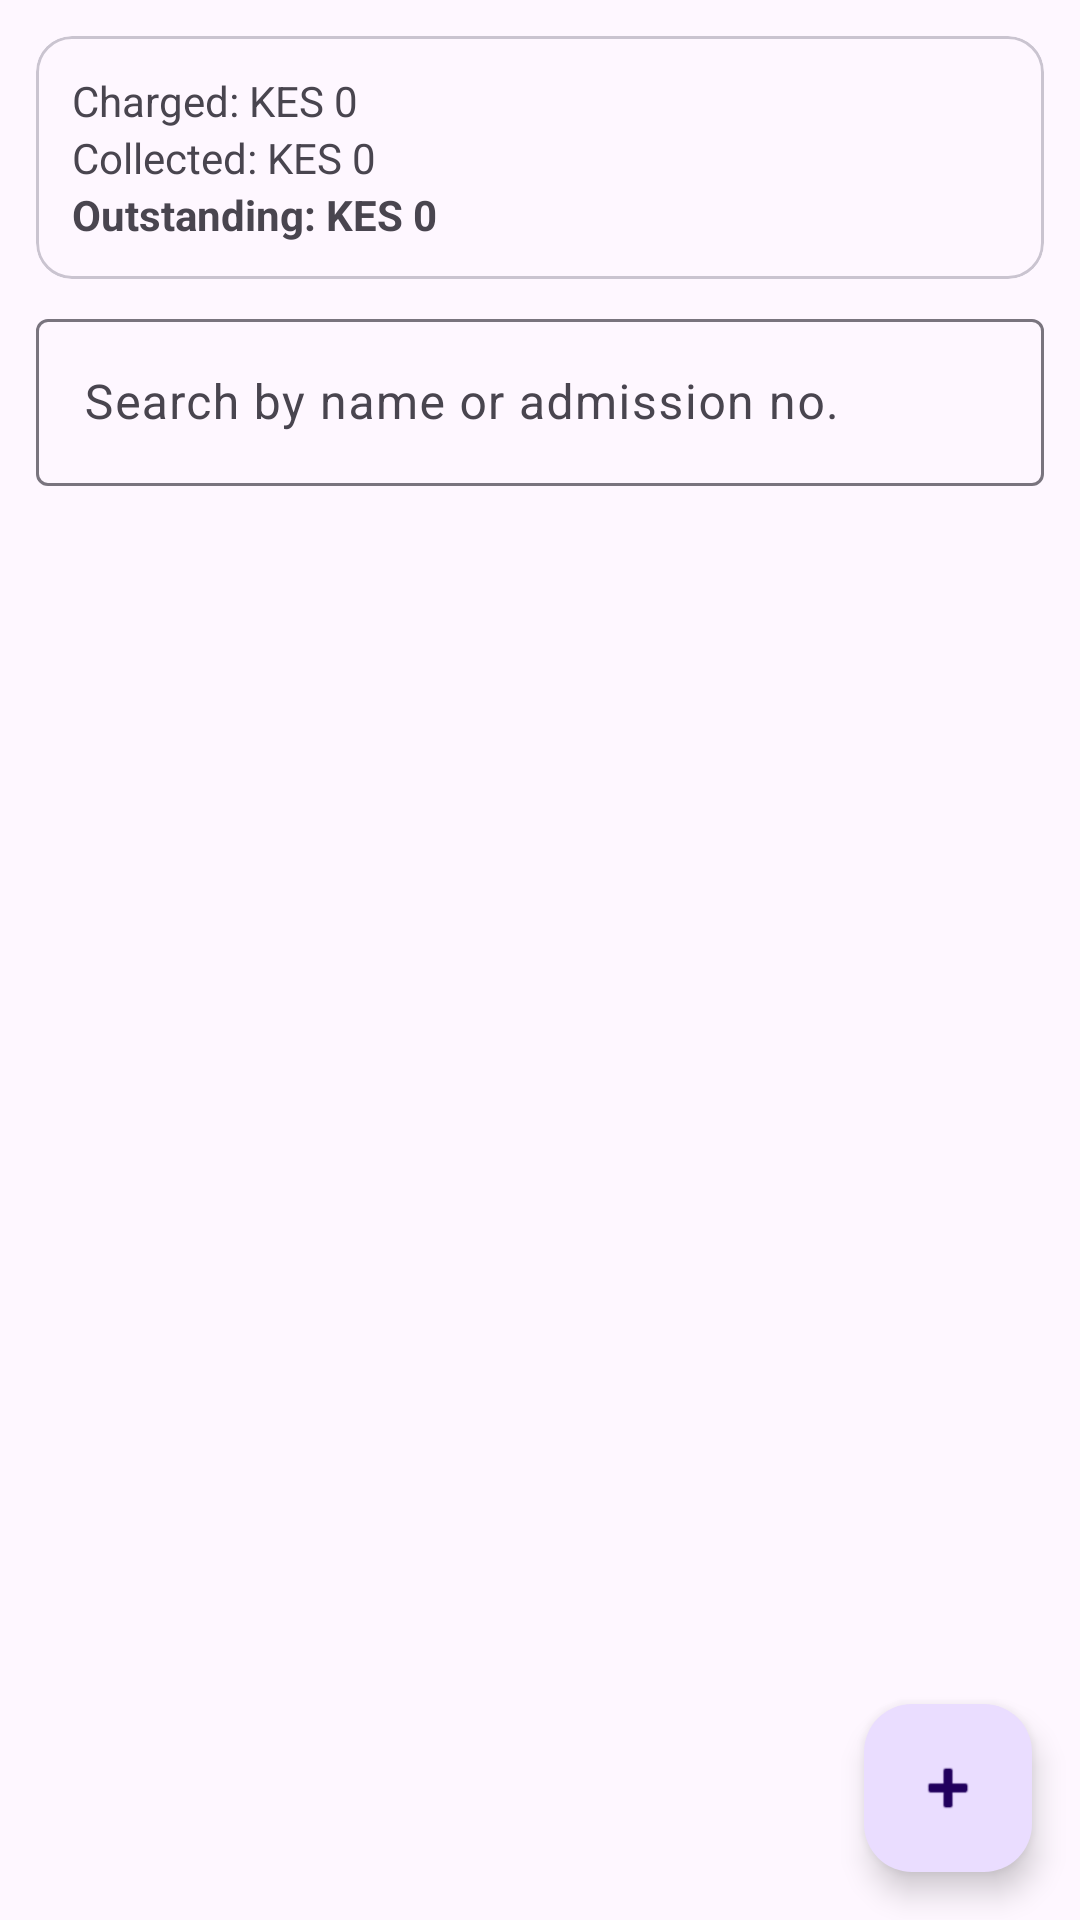

Icons on this 1080*1920 Android screen, each with its box as (x1, y1, x2, y2):
Add student: (864, 1704, 1032, 1872)
